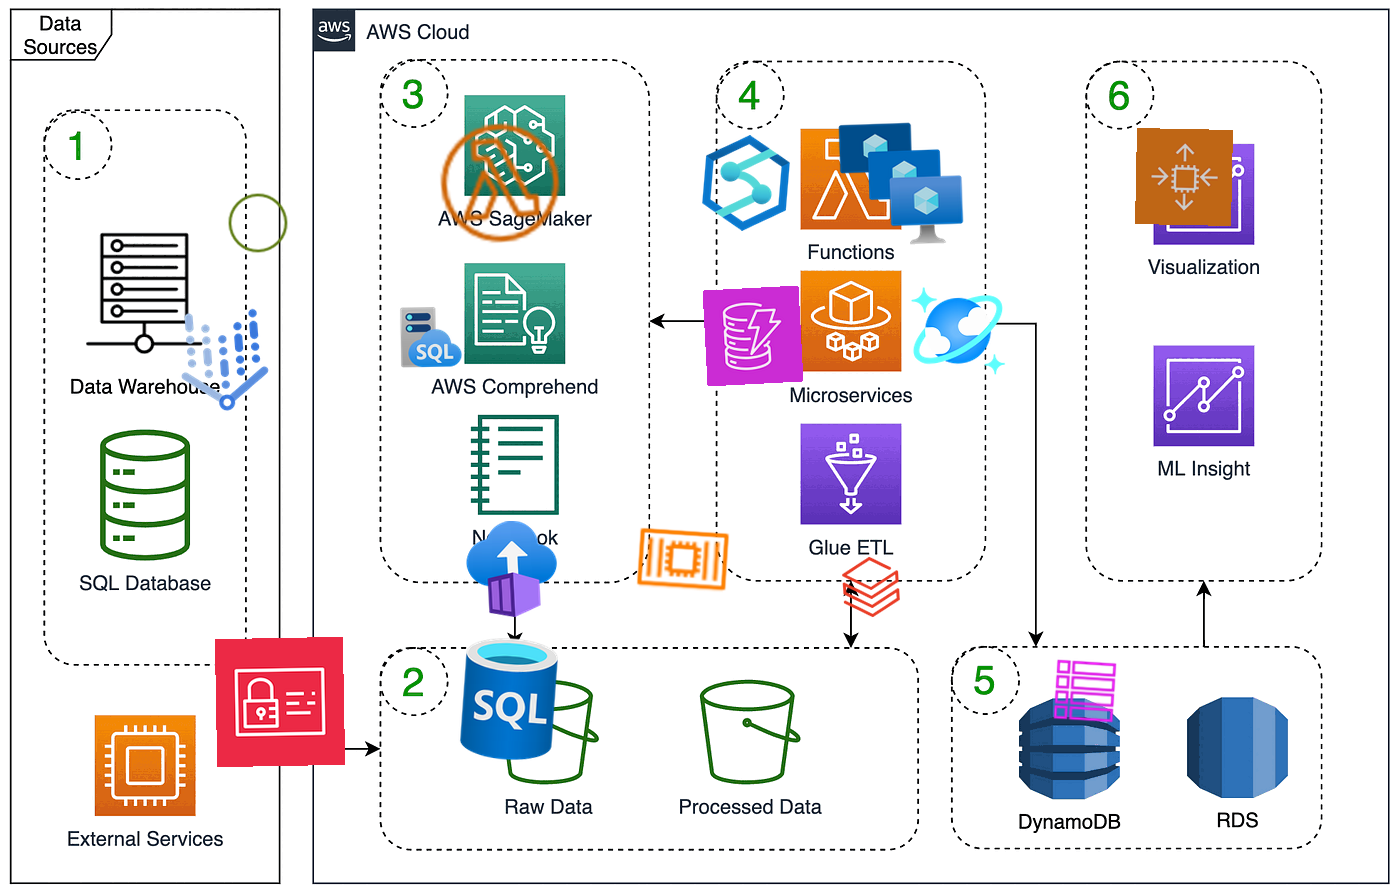aws_amazon_dynamodb: (702, 285, 804, 387)
aws_amazon_ec2_auto_scaling: (1135, 128, 1233, 226)
aws_dynamodb_table: (1050, 656, 1120, 726)
aws_elastic_container_service_container_2: (631, 507, 735, 611)
aws_identity_and_access_management: (214, 636, 346, 768)
aws_lambda_lambda_function: (431, 114, 569, 252)
aws_simple_storage_service_object: (224, 190, 291, 256)
azure_container_instances: (461, 518, 563, 620)
azure_cosmos_db: (907, 280, 1009, 382)
azure_databricks: (837, 553, 905, 620)
azure_sql_database: (440, 630, 578, 768)
azure_sql_managed_instance: (398, 304, 464, 370)
azure_synapse_analytics: (694, 131, 798, 235)
azure_vm_scale_sets: (832, 114, 966, 248)
gcp_vertex_ai: (155, 292, 293, 430)
